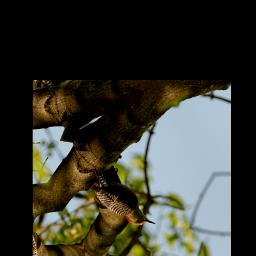Woodpecker: (85, 155, 156, 244)
